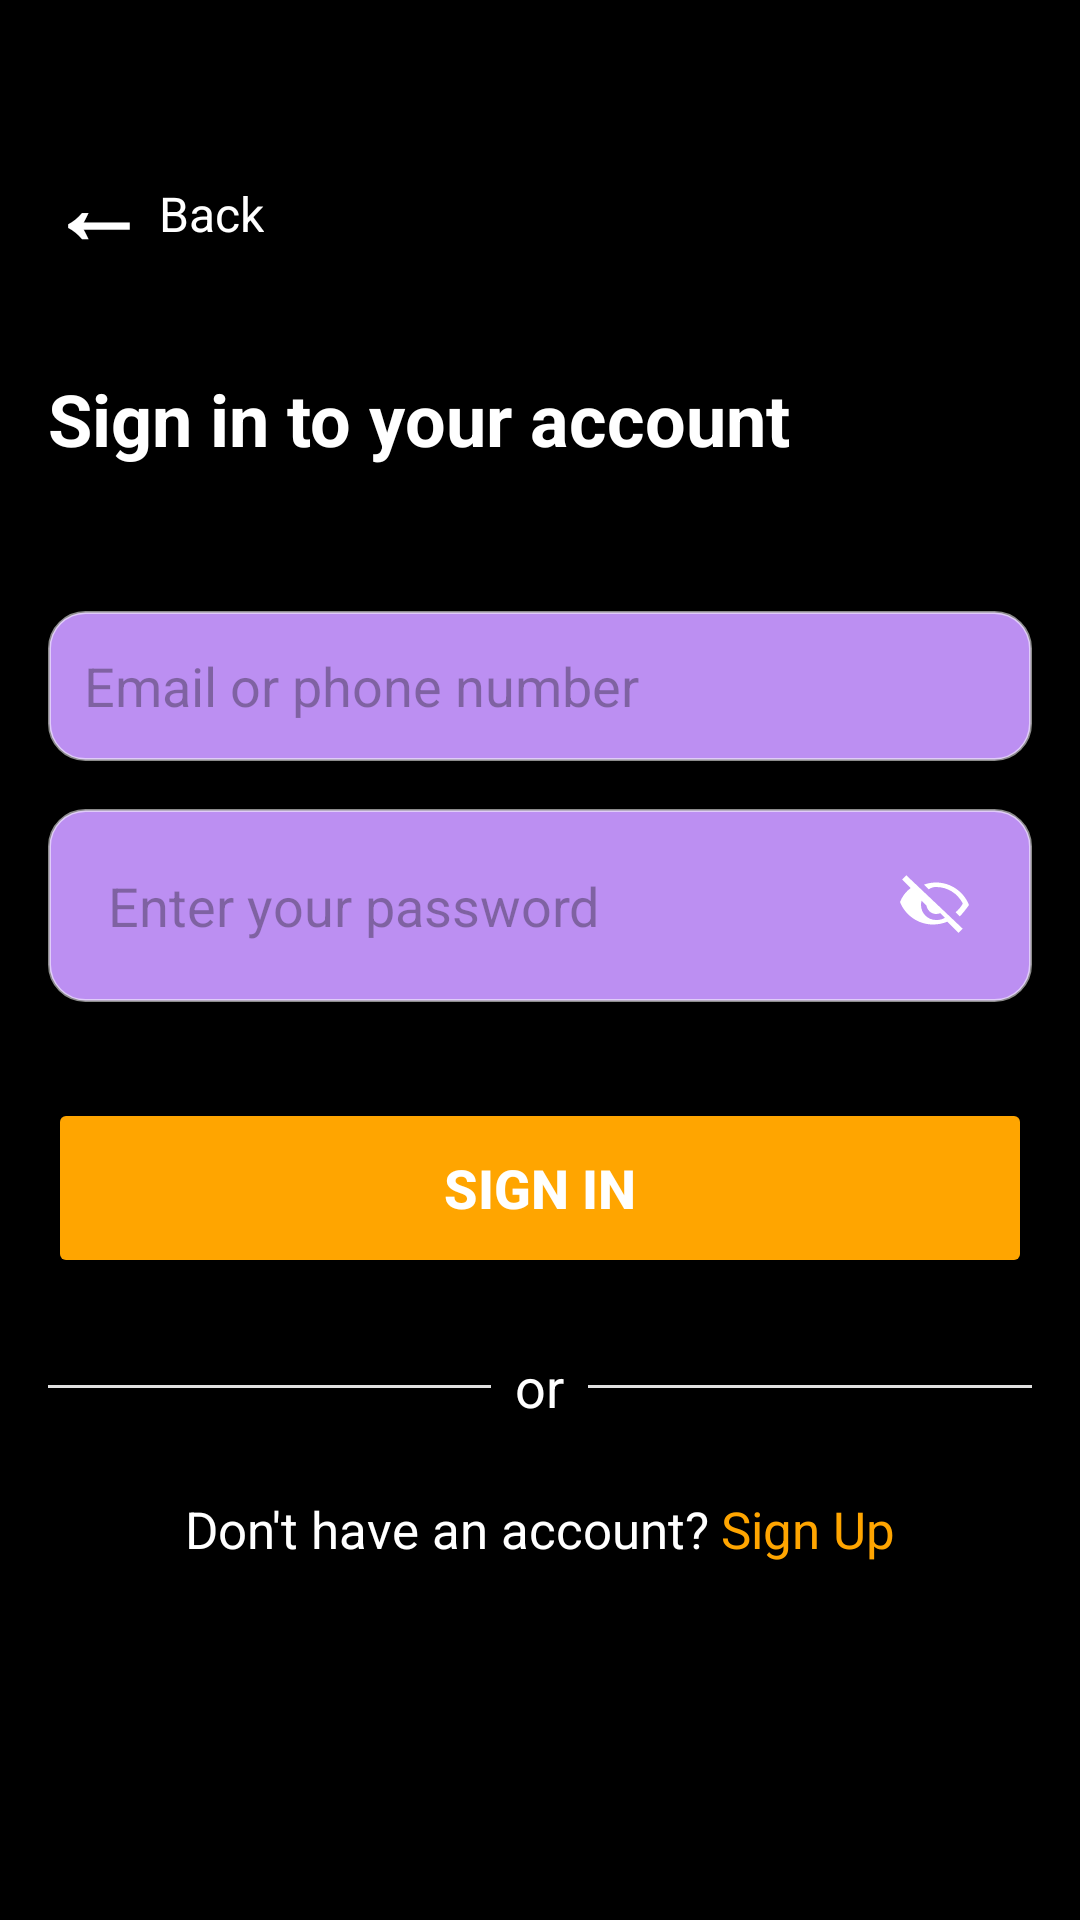

Point at icon controls on the screen. Image size 1080x1920, points as [x,y].
visibility off: [934,904]
